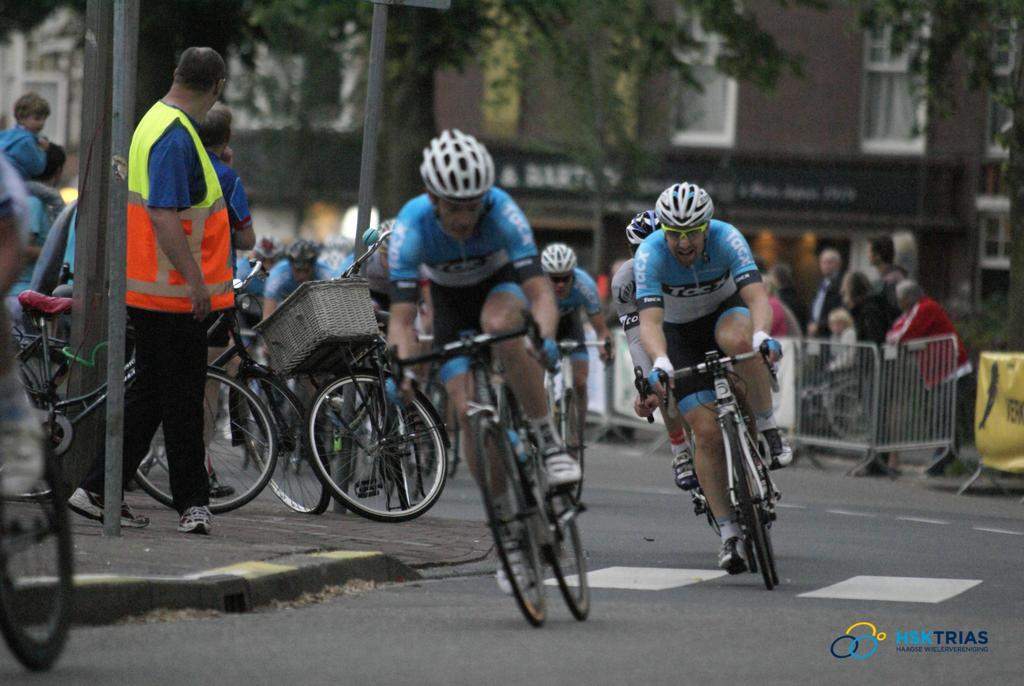Bike_toward: (391, 340, 579, 635), (620, 348, 789, 617)
